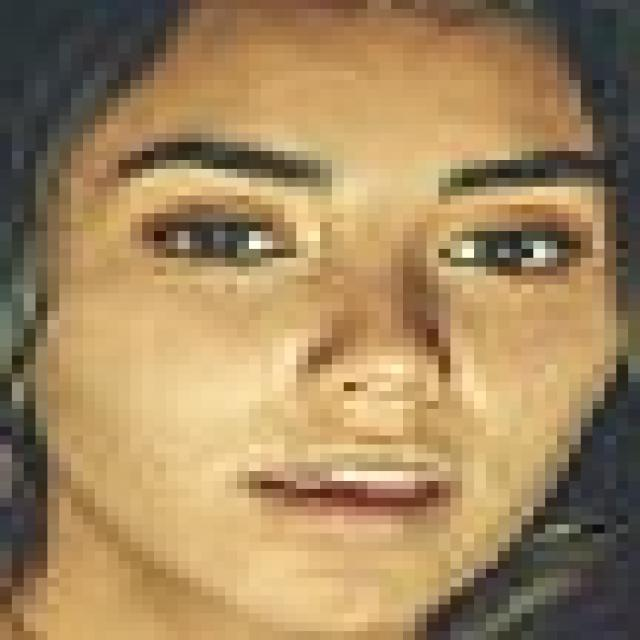Anxiety: (23, 2, 622, 630)
